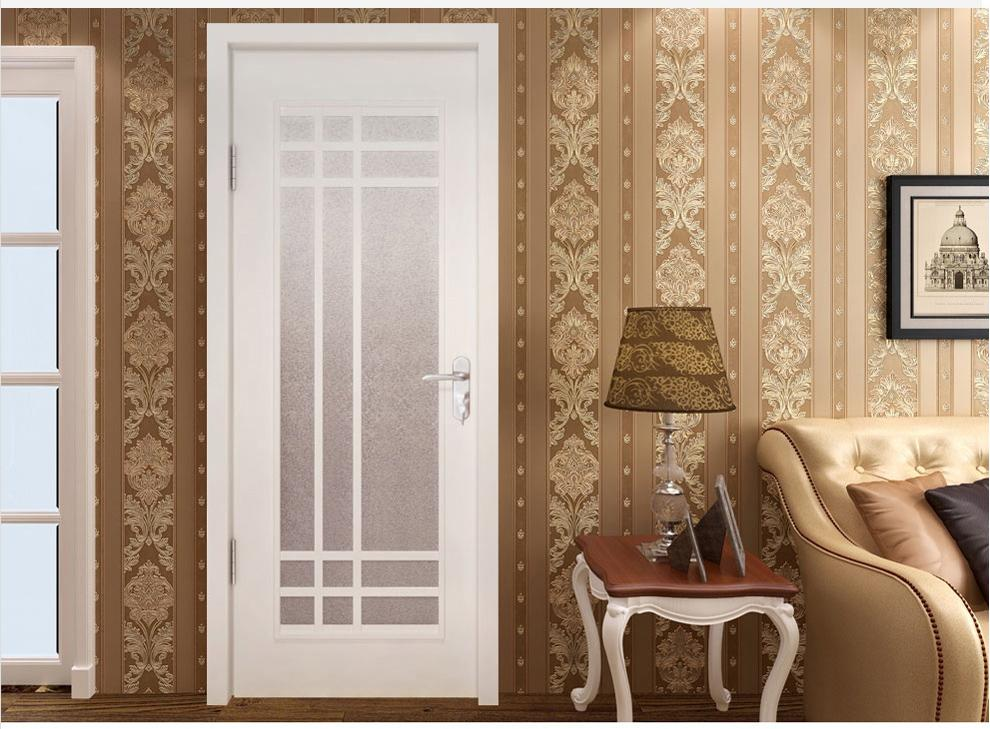door: (229, 48, 480, 697)
